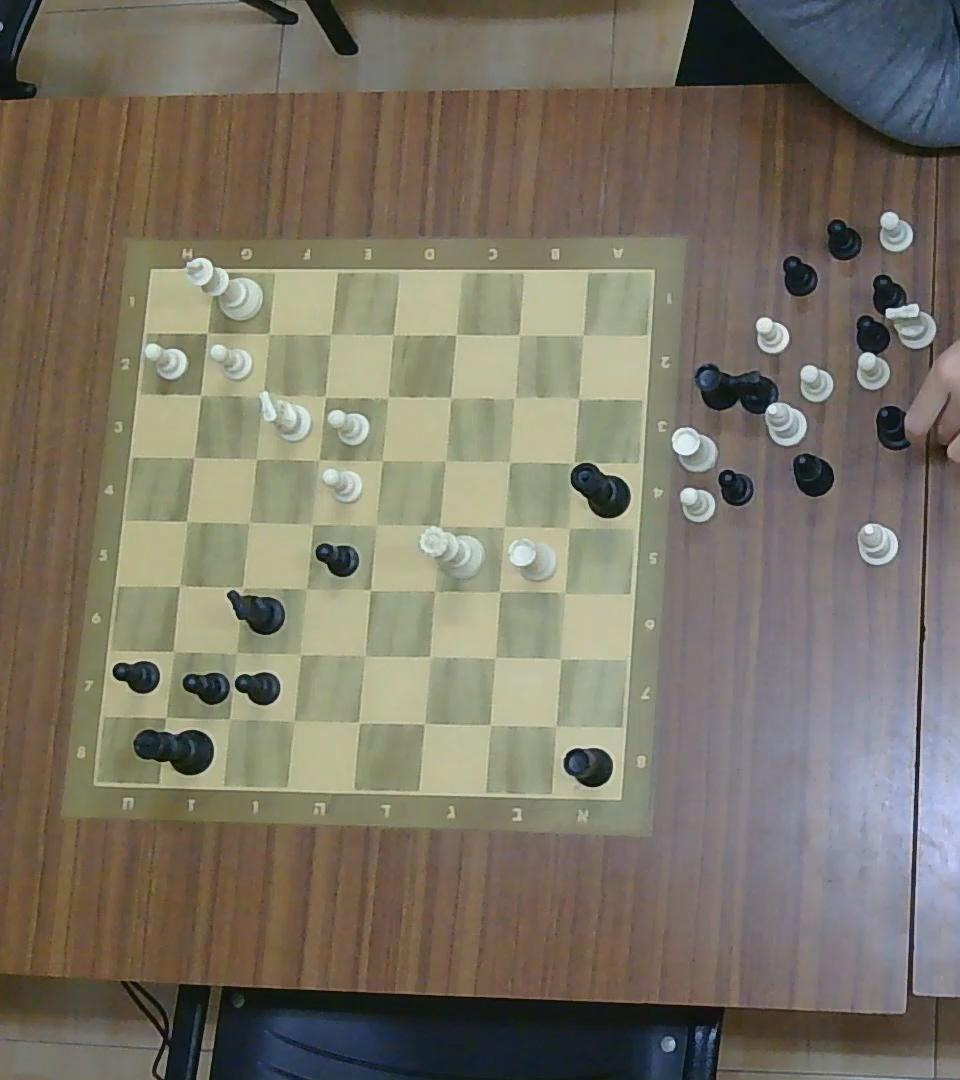xcorner: (542, 713, 569, 740), (279, 706, 305, 734), (215, 705, 241, 732), (351, 641, 377, 668), (411, 710, 437, 737), (416, 642, 442, 669), (547, 644, 573, 671), (477, 710, 503, 737), (153, 702, 179, 728), (486, 578, 511, 605), (167, 572, 192, 598), (425, 513, 450, 539), (287, 639, 311, 666), (379, 320, 403, 347), (358, 575, 382, 602), (346, 709, 371, 734), (551, 579, 576, 604), (481, 645, 506, 670), (375, 383, 399, 409), (195, 319, 219, 345), (421, 577, 445, 603), (368, 447, 392, 473), (491, 513, 515, 539), (174, 507, 198, 532), (223, 640, 247, 665), (557, 515, 581, 540), (558, 448, 582, 473), (506, 321, 530, 346), (229, 574, 253, 599), (236, 508, 259, 534), (162, 638, 185, 664), (257, 319, 280, 345), (438, 385, 461, 410), (318, 321, 341, 346), (443, 321, 466, 346), (497, 448, 520, 473), (294, 576, 317, 601), (300, 512, 323, 536), (364, 512, 387, 536), (188, 381, 211, 405), (250, 381, 273, 405), (570, 322, 594, 345), (433, 448, 455, 473), (566, 386, 589, 409), (306, 447, 329, 470), (182, 445, 204, 469), (245, 445, 267, 469), (313, 384, 335, 408), (503, 386, 524, 409)
